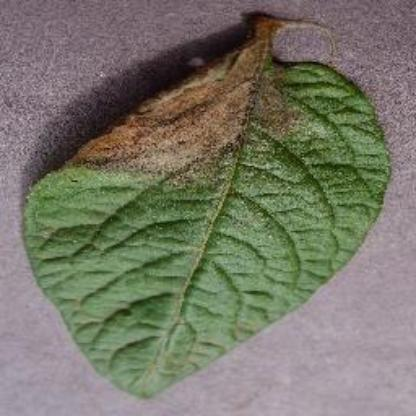Late-Blight: (17, 8, 406, 406)
